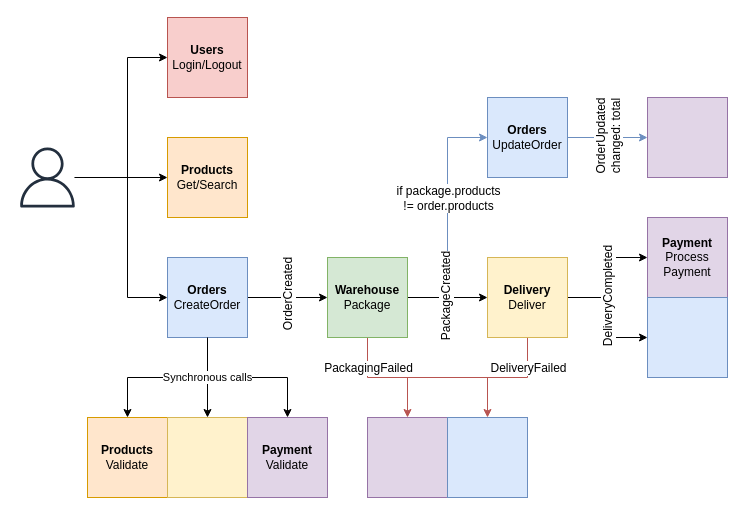
Image size: 745x515. Some labels were removed from this diagram. Here are the shapes that lost their labels. From the top down, the centre of each, then its label:
At [687,137]: "Payment Update Payment".
At [687,337]: "Orders Order Complete".
At [207,457]: "Delivery Validate".
At [407,457]: "Payment Cancel Payment".
At [487,457]: "Orders Order Cancelled".
